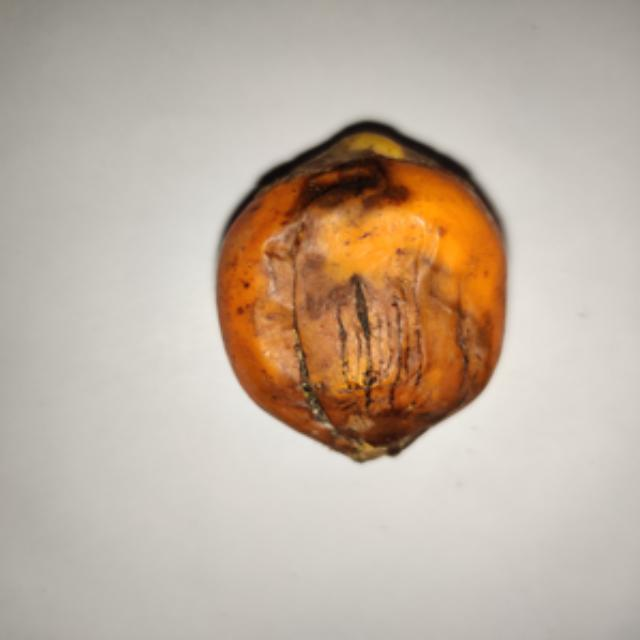damaged: (218, 124, 505, 460)
